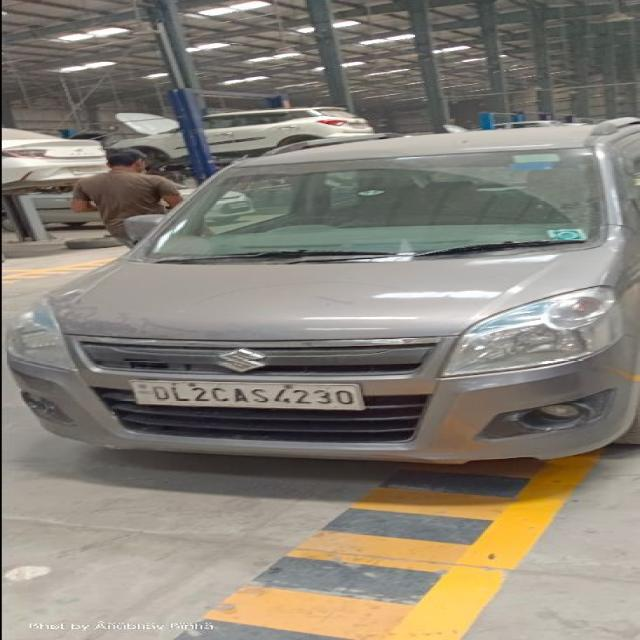license_plate: (126, 379, 366, 411)
